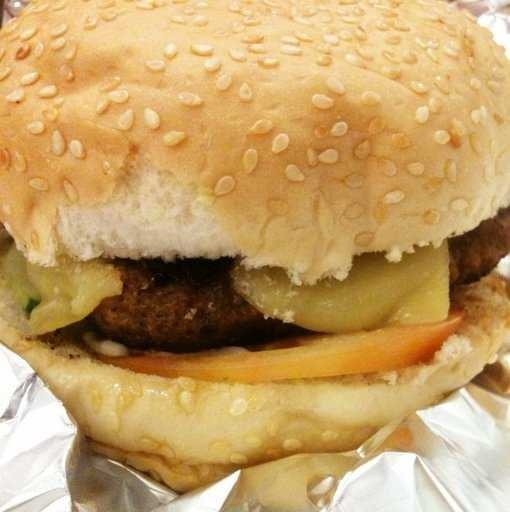hamburger: (7, 5, 495, 451)
